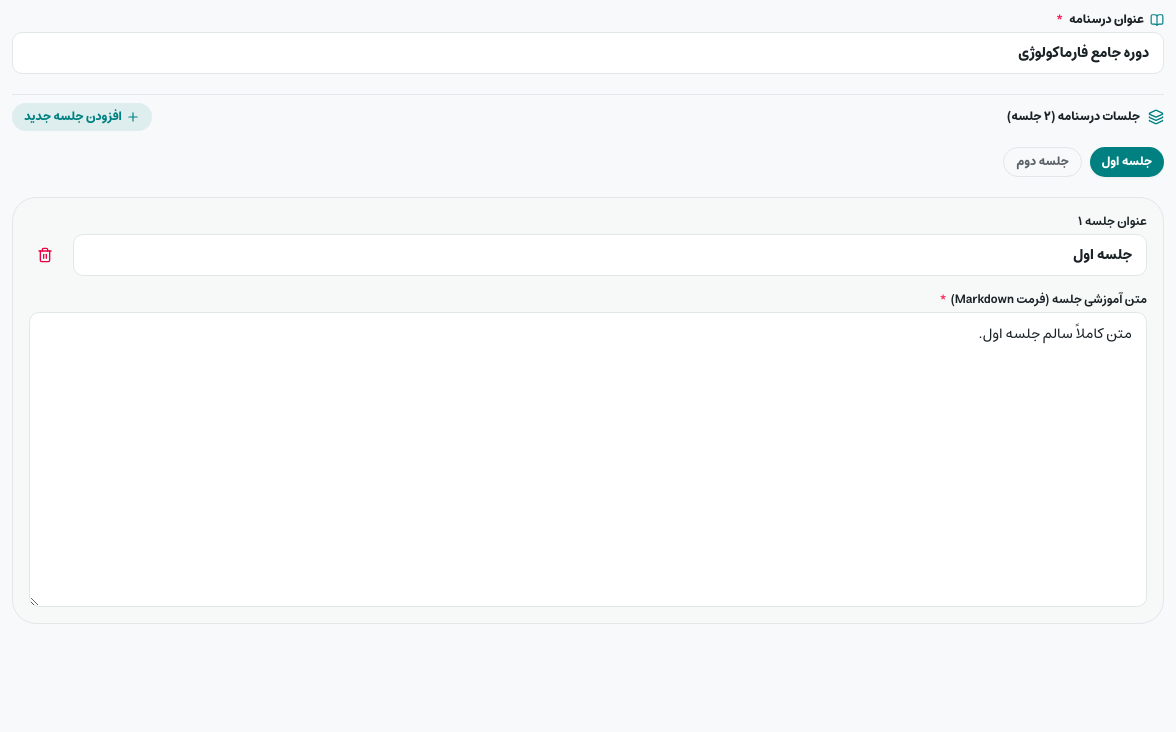
Test: Admin Content Repair UI & Modal › 4. Interactively repairs active session in multi-session lesson editor
The width and height of the screenshot is (1176, 732).
Expected: the button "اصلاح خودکار" is not shown
# Switch to session 1
Click the button "جلسه دوم" at (1043, 162), box [1003, 147, 1082, 177]
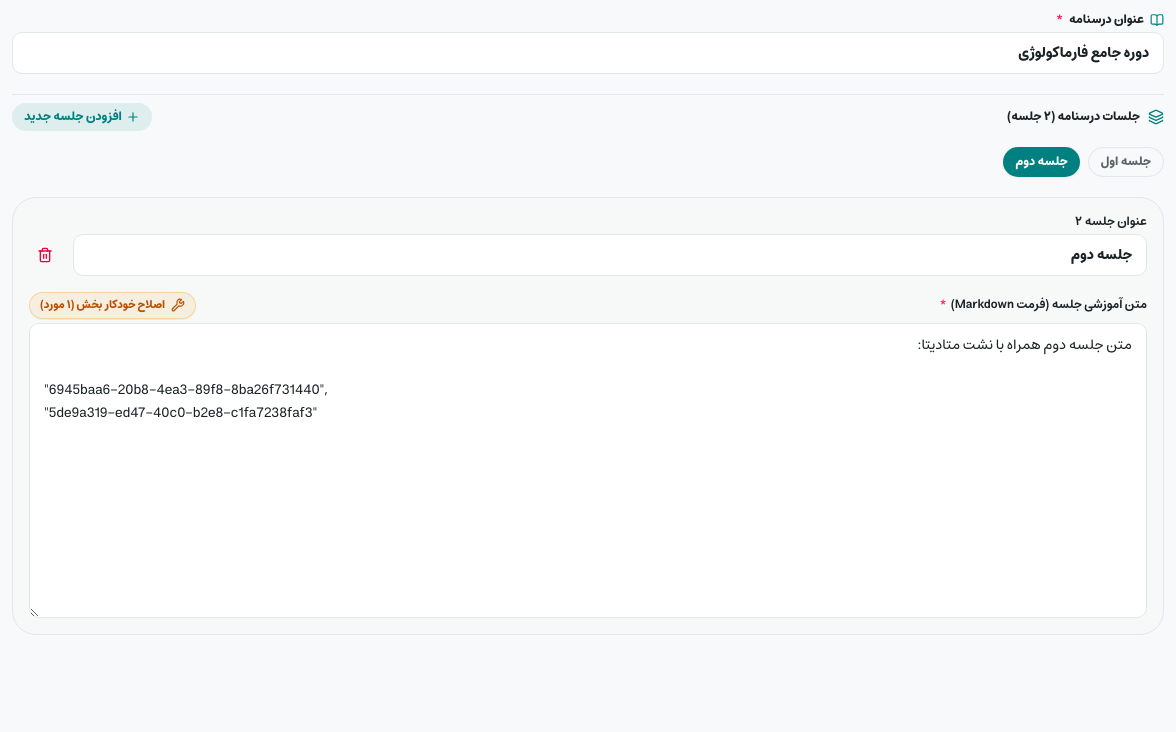
Now the button "اصلاح خودکار بخش (۱ مورد)" is shown, box [29, 292, 196, 318]
